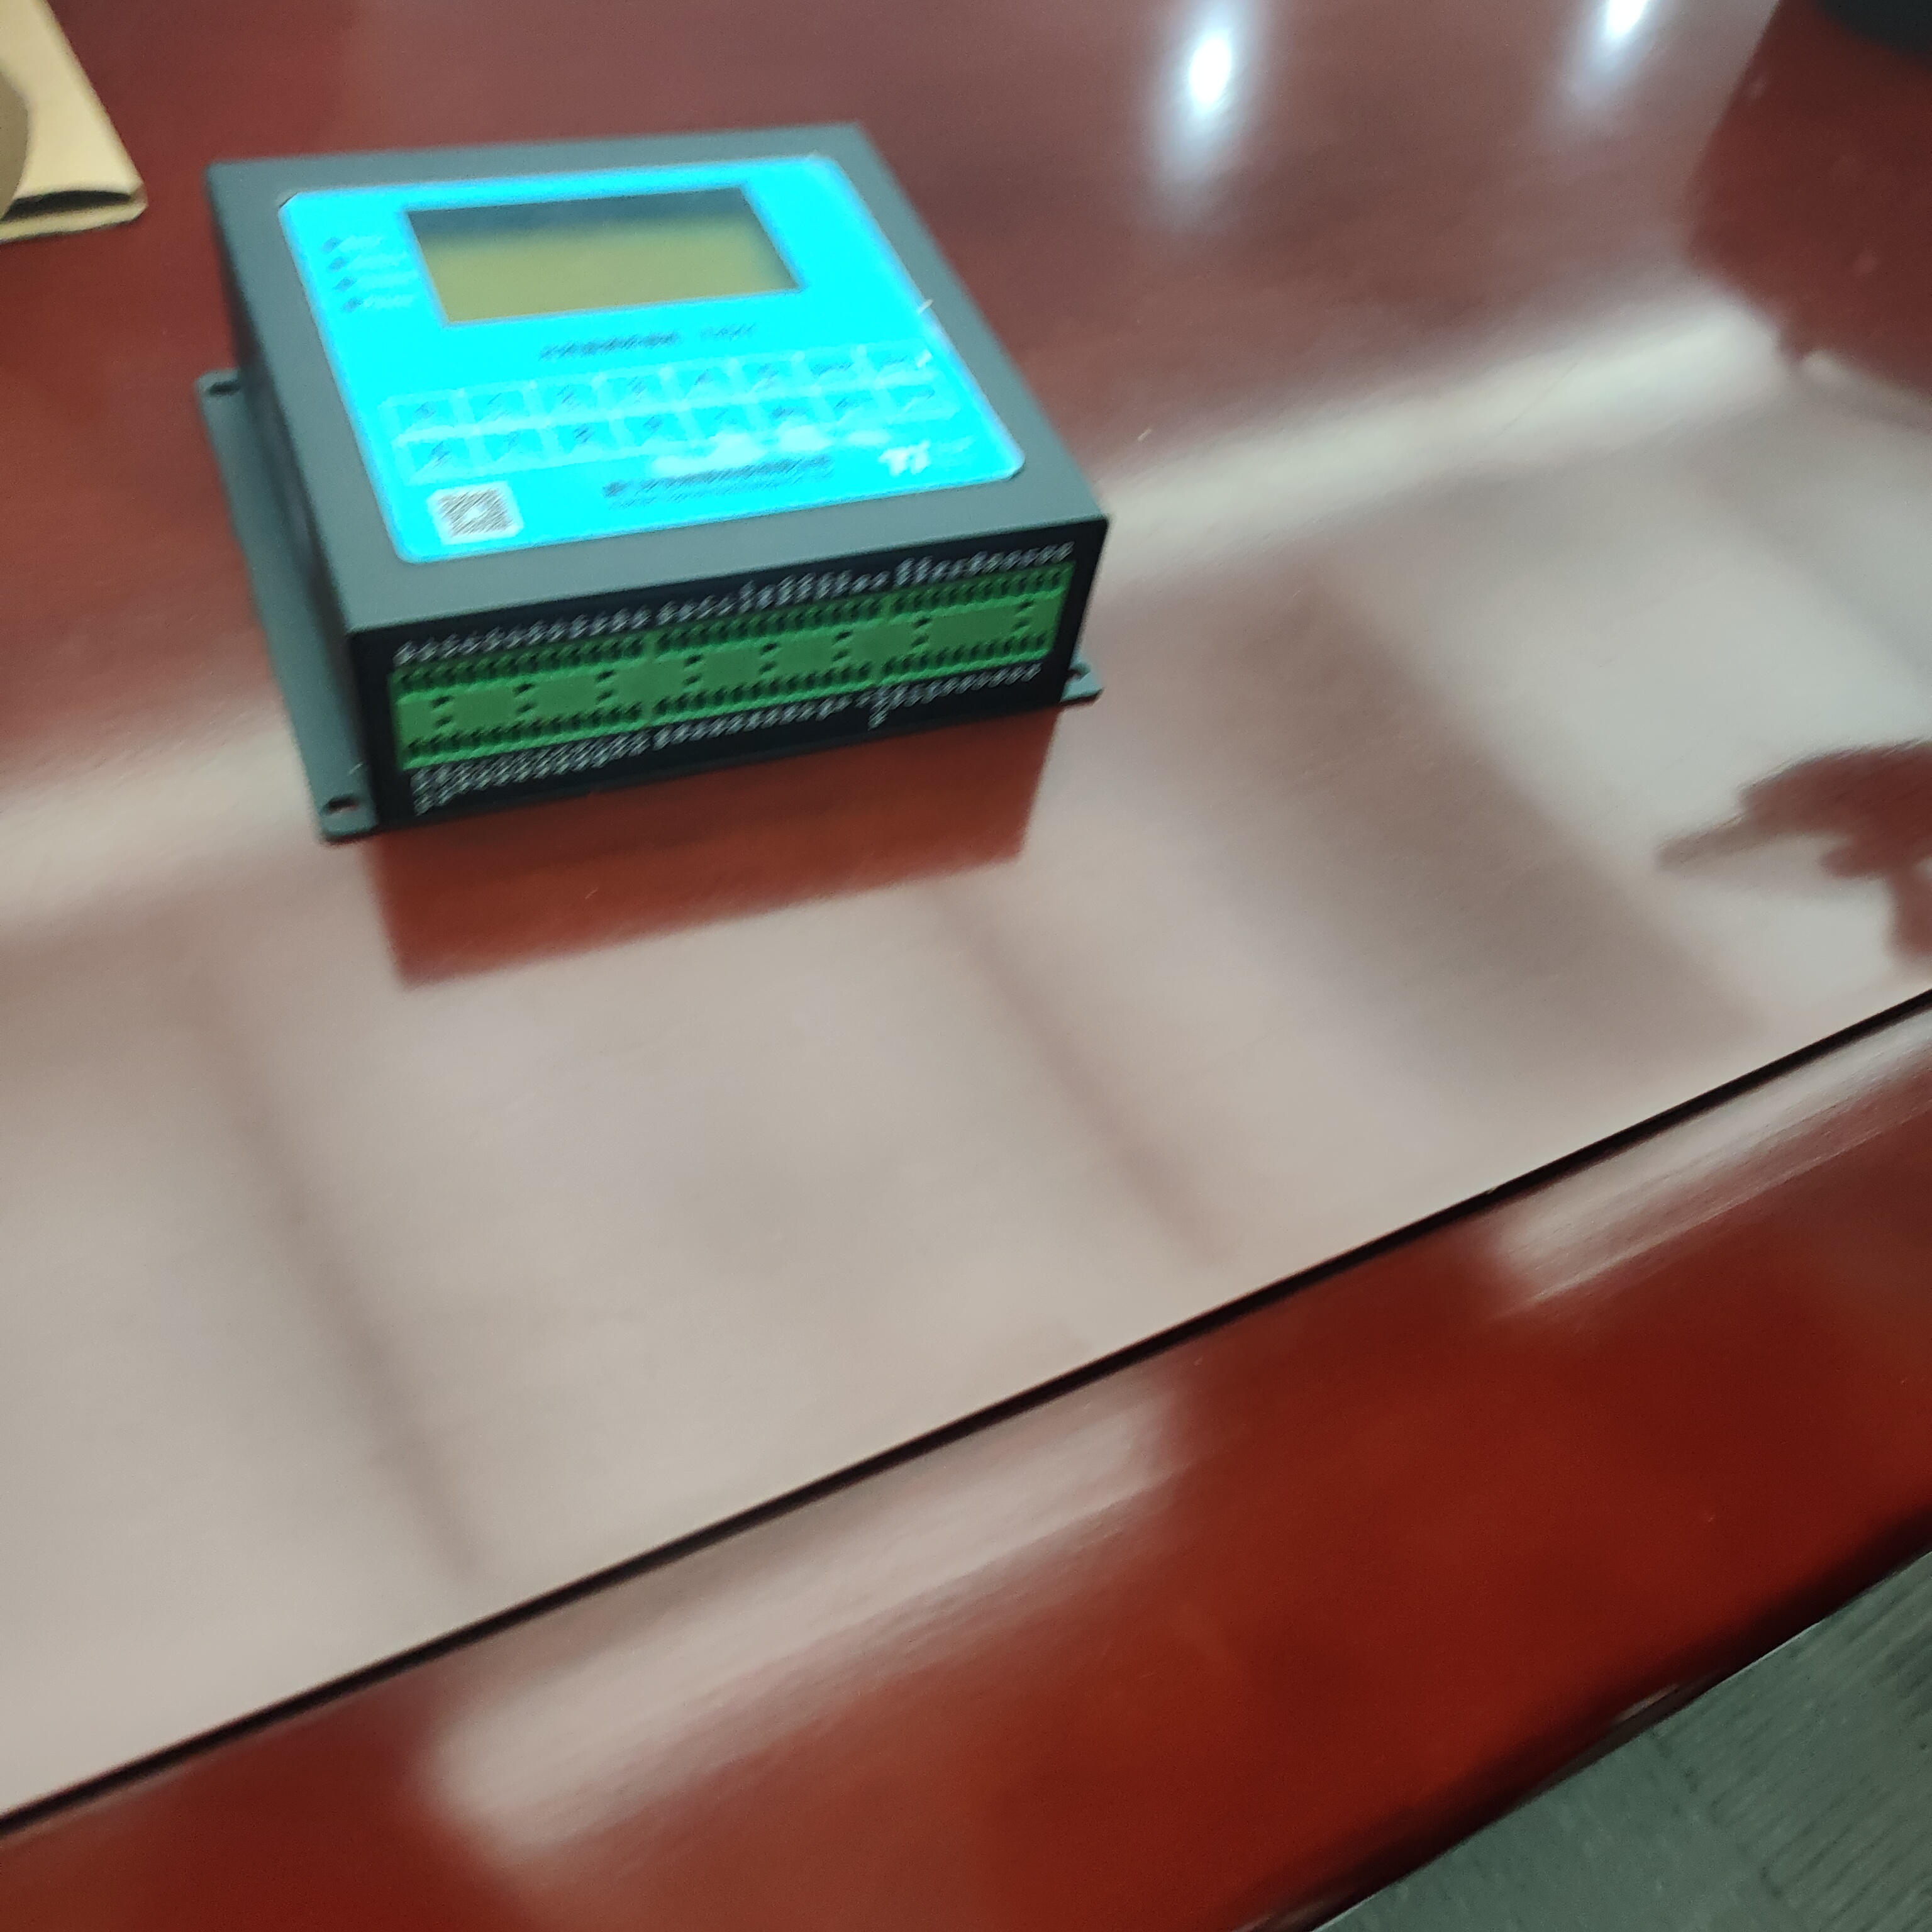slyczd: (188, 101, 1129, 849)
